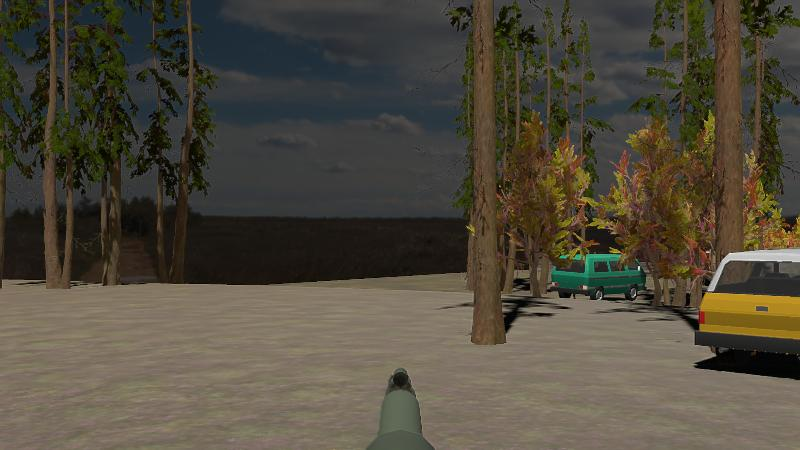car: (694, 247, 800, 374), (551, 252, 648, 302)
